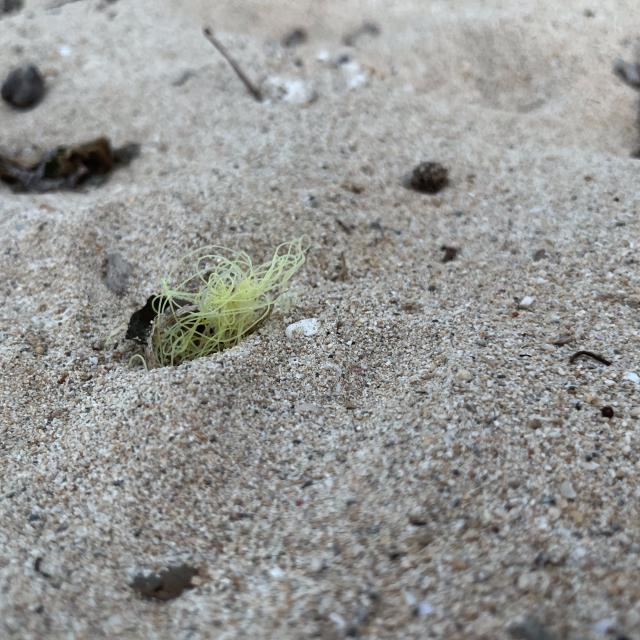trash: (151, 228, 306, 372)
